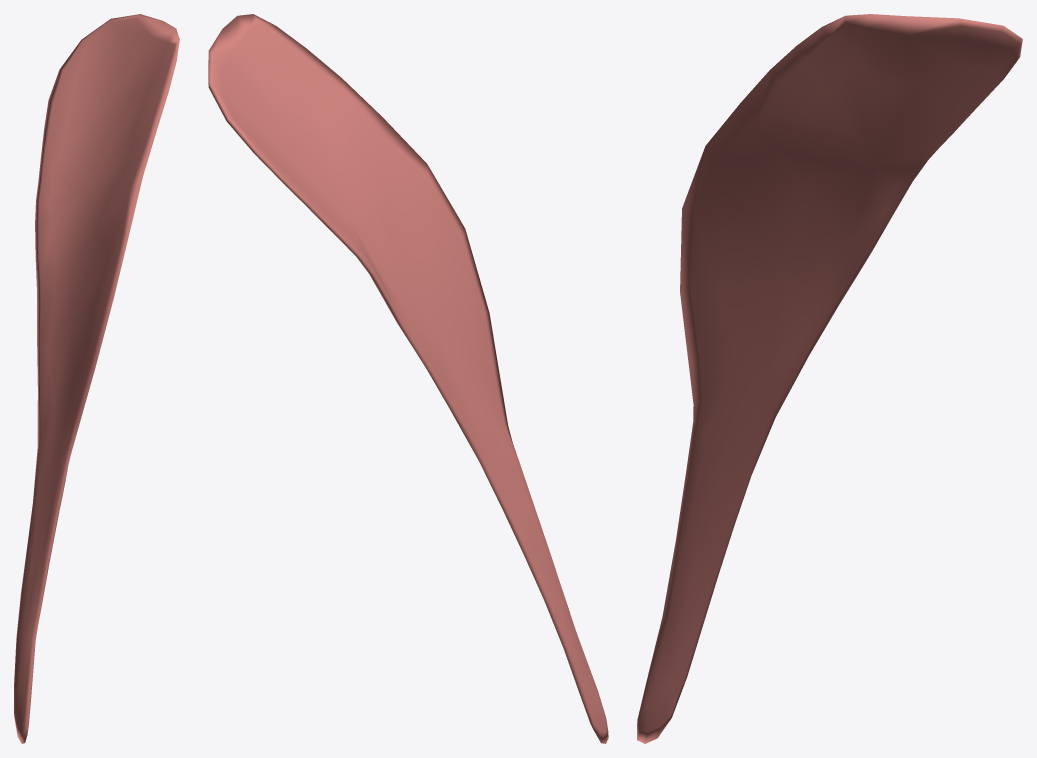
3 views of the same model, side by side, from view 1: azimuth 30°, elevation 25°; view 2: azimuth 150°, elevation 25°; view 3: azimuth 270°, elevation 25° (orthographic). The views are drawn at different scales.
Parts seen in each view (by area): view 1: ZA_5d911156d2f9f89b; view 2: ZA_5d911156d2f9f89b; view 3: ZA_5d911156d2f9f89b.
Part boxes in pixels (x1,y1,x2,y2): ZA_5d911156d2f9f89b: [14, 14, 179, 743]; ZA_5d911156d2f9f89b: [208, 14, 608, 743]; ZA_5d911156d2f9f89b: [637, 14, 1022, 743].
Size of the model in its own units: 0.0197 by 0.0493 by 0.0192.
